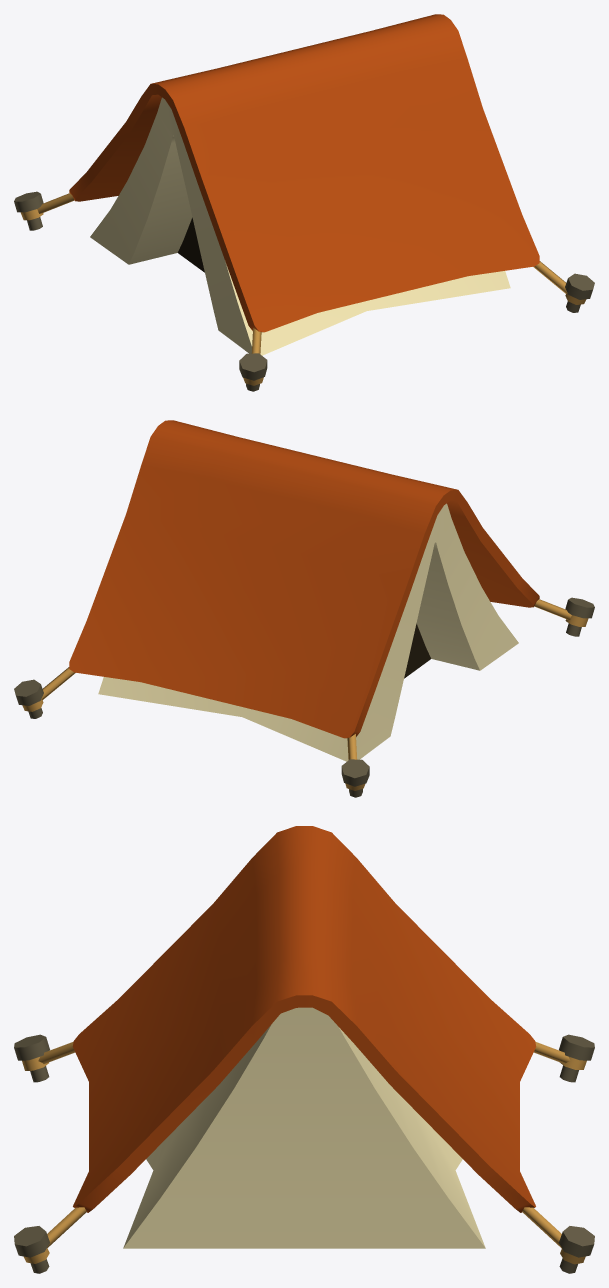
The model's file is tent.glb.
3 views of the same model, one above another, from view 1: azimuth 30°, elevation 25°; view 2: azimuth 150°, elevation 25°; view 3: azimuth 270°, elevation 25° (orthographic). The views are drawn at different scales.
Visible parts, largest first — view 1: tent; view 2: tent; view 3: tent.
Part boxes in pixels (x1=…): tent: x1=14, y1=14, x2=594, y2=391; tent: x1=14, y1=420, x2=594, y2=797; tent: x1=14, y1=826, x2=594, y2=1273.
Bounding box in the file's own units: 3.97 × 2.35 × 4.66.
1 material, 1 textured.
